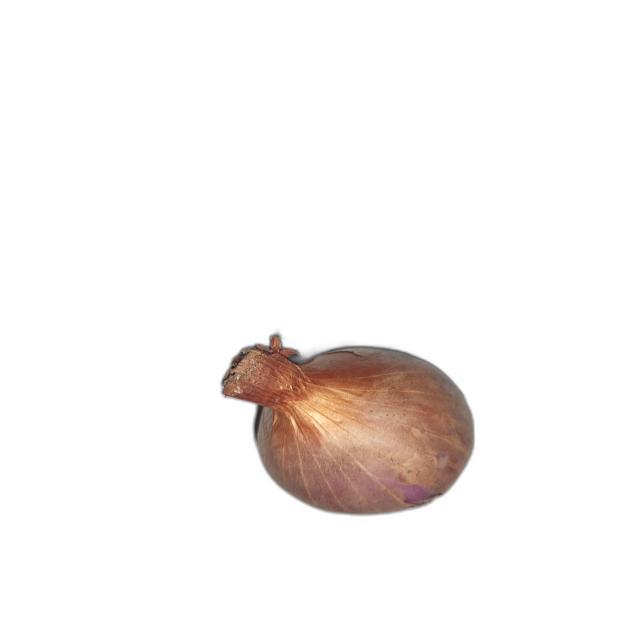onion: (221, 334, 476, 516)
